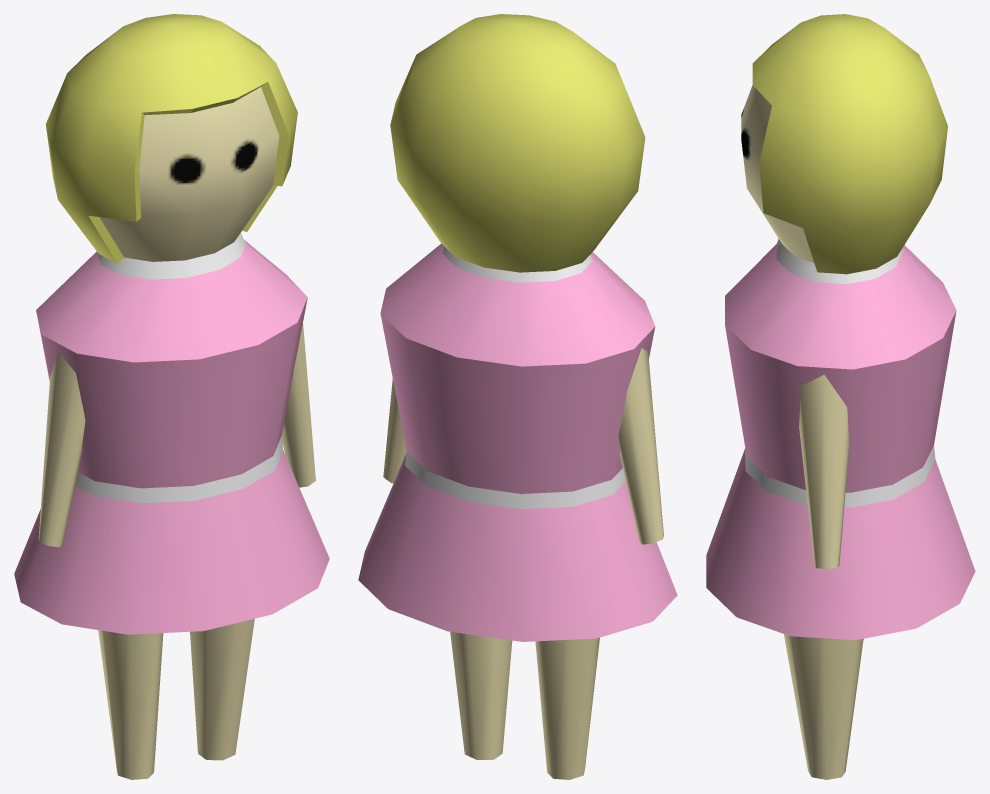
Rendered from SM_Doll.FBX.
The picture shows the model from 3 angles, left to right: view 1: azimuth 30°, elevation 25°; view 2: azimuth 150°, elevation 25°; view 3: azimuth 270°, elevation 25°; orthographic projection. The views are drawn at different scales.
Parts seen in each view (by area): view 1: Sphere011; view 2: Sphere011; view 3: Sphere011.
Part boxes in pixels (x1,y1,x2,y2): Sphere011: [14, 14, 329, 779]; Sphere011: [358, 14, 677, 779]; Sphere011: [706, 14, 975, 779].
Size of the model in its own units: 13.47 by 33.22 by 11.13.
